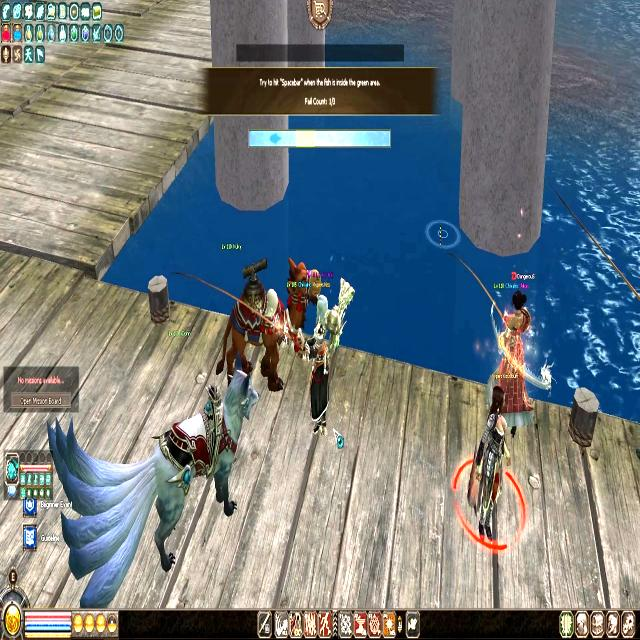fishes: (269, 132, 282, 145)
